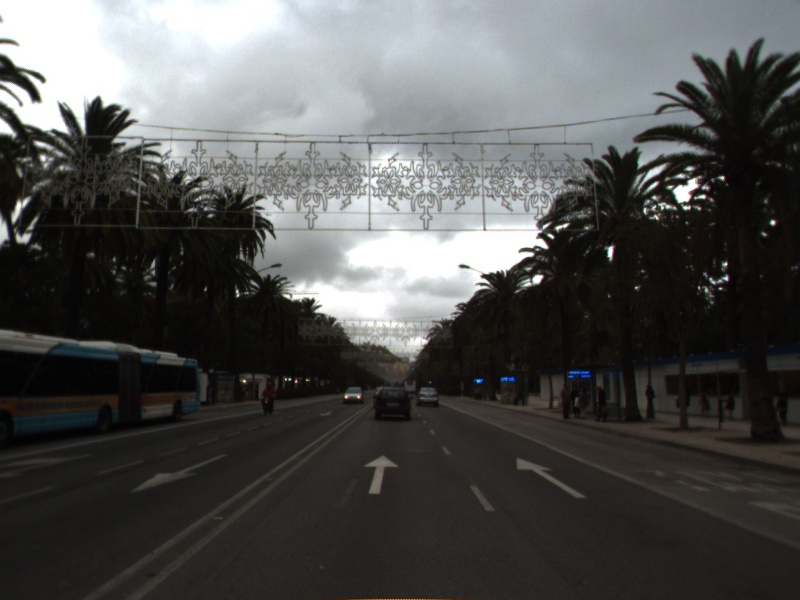STRAIGHT: (514, 455, 589, 500), (362, 453, 401, 496)
